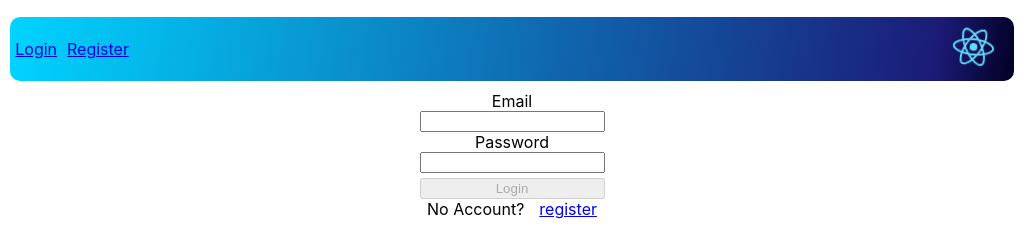
Login e2e tests › login and look
This screenshot has width=1024, height=236.
Type "12345@12345" into the field with id "emailInput".
click(513, 122); type("12345@12345")  # box [420,111,605,132]
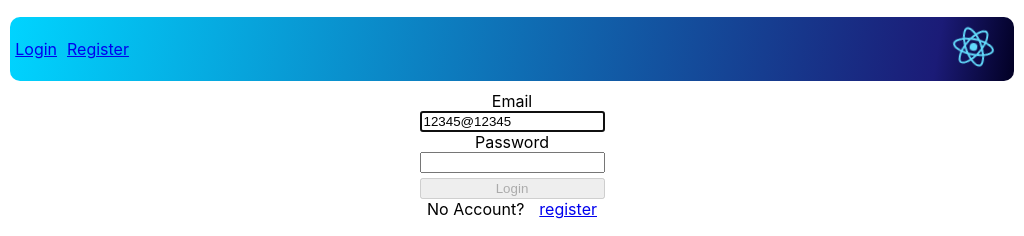
Type "1" into the password field.
click(513, 163); type("1")  # box [420,152,605,173]
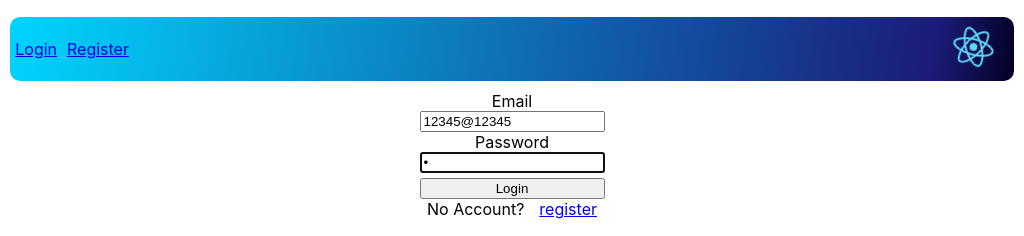
Click the button "Login".
click(513, 189)  # box [420,178,605,199]
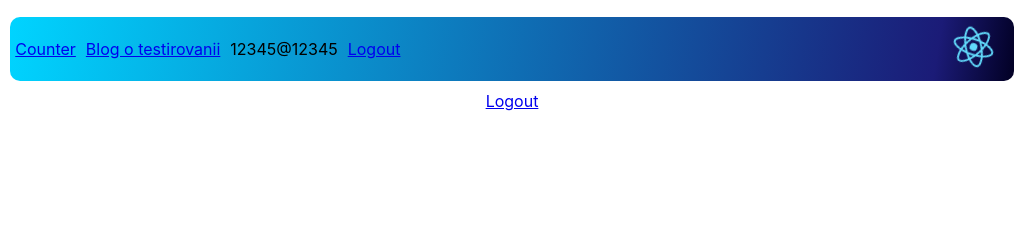
Expected: the text "12345@12345" is shown, [225,34,343,64]
Expected: the link "Counter" is shown, [15,39,76,59]
Expected: the link "Blog o testirovanii" is shown, [86,39,220,59]
